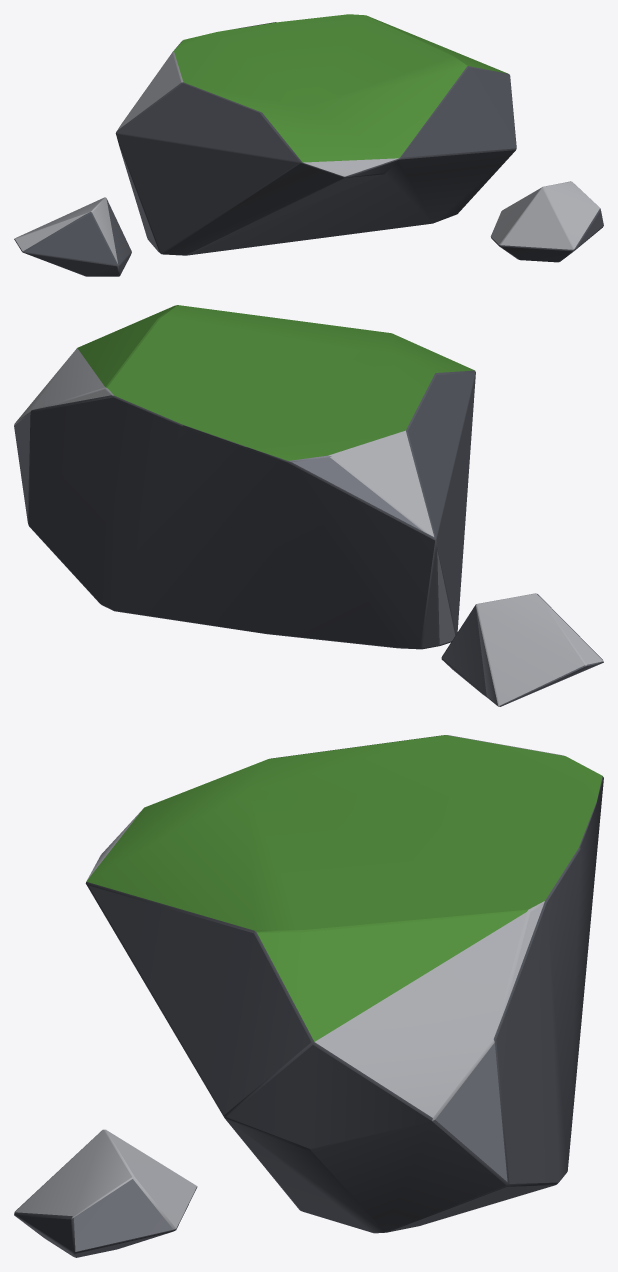
Rendered from Boulder_08.glb.
3 views of the same model, one above another, from view 1: azimuth 30°, elevation 25°; view 2: azimuth 150°, elevation 25°; view 3: azimuth 270°, elevation 25° (orthographic). The views are drawn at different scales.
Visible parts, largest first — view 1: Boulder_08; view 2: Boulder_08; view 3: Boulder_08.
Part boxes in pixels (x1=…): Boulder_08: x1=14, y1=14, x2=603, y2=276; Boulder_08: x1=14, y1=305, x2=603, y2=706; Boulder_08: x1=14, y1=735, x2=603, y2=1257.
Size of the model in its own units: 7.68 by 2.5 by 4.76.
